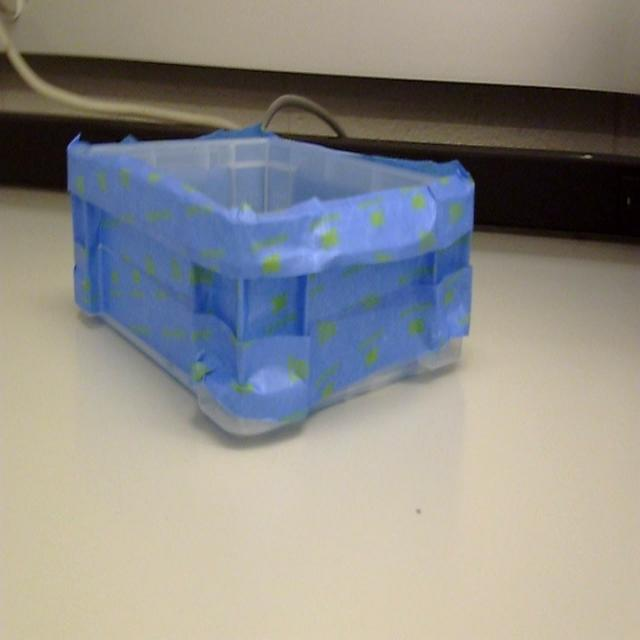bucket: (66, 127, 476, 444)
